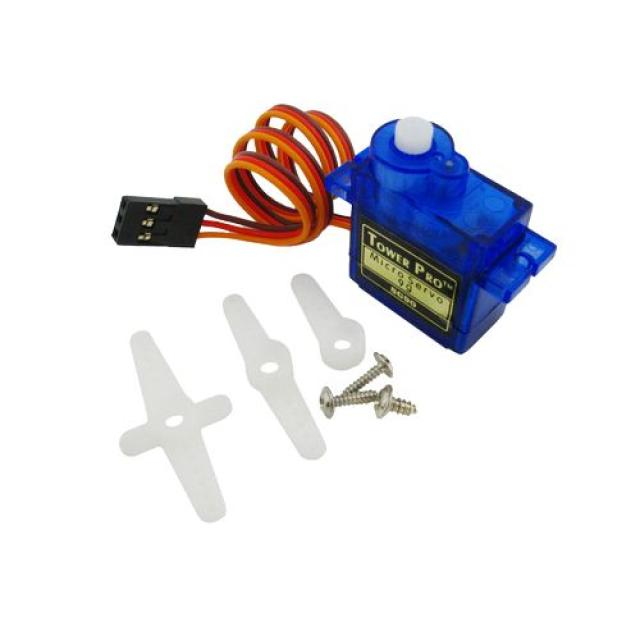motor: (326, 92, 562, 358)
